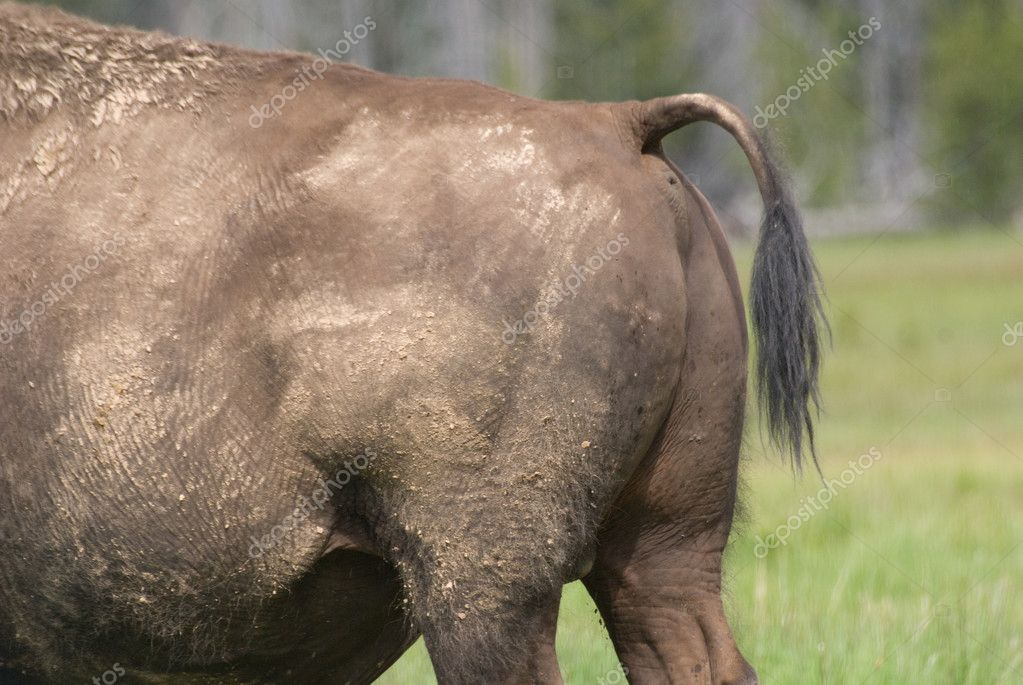bison: (1, 1, 821, 685)
